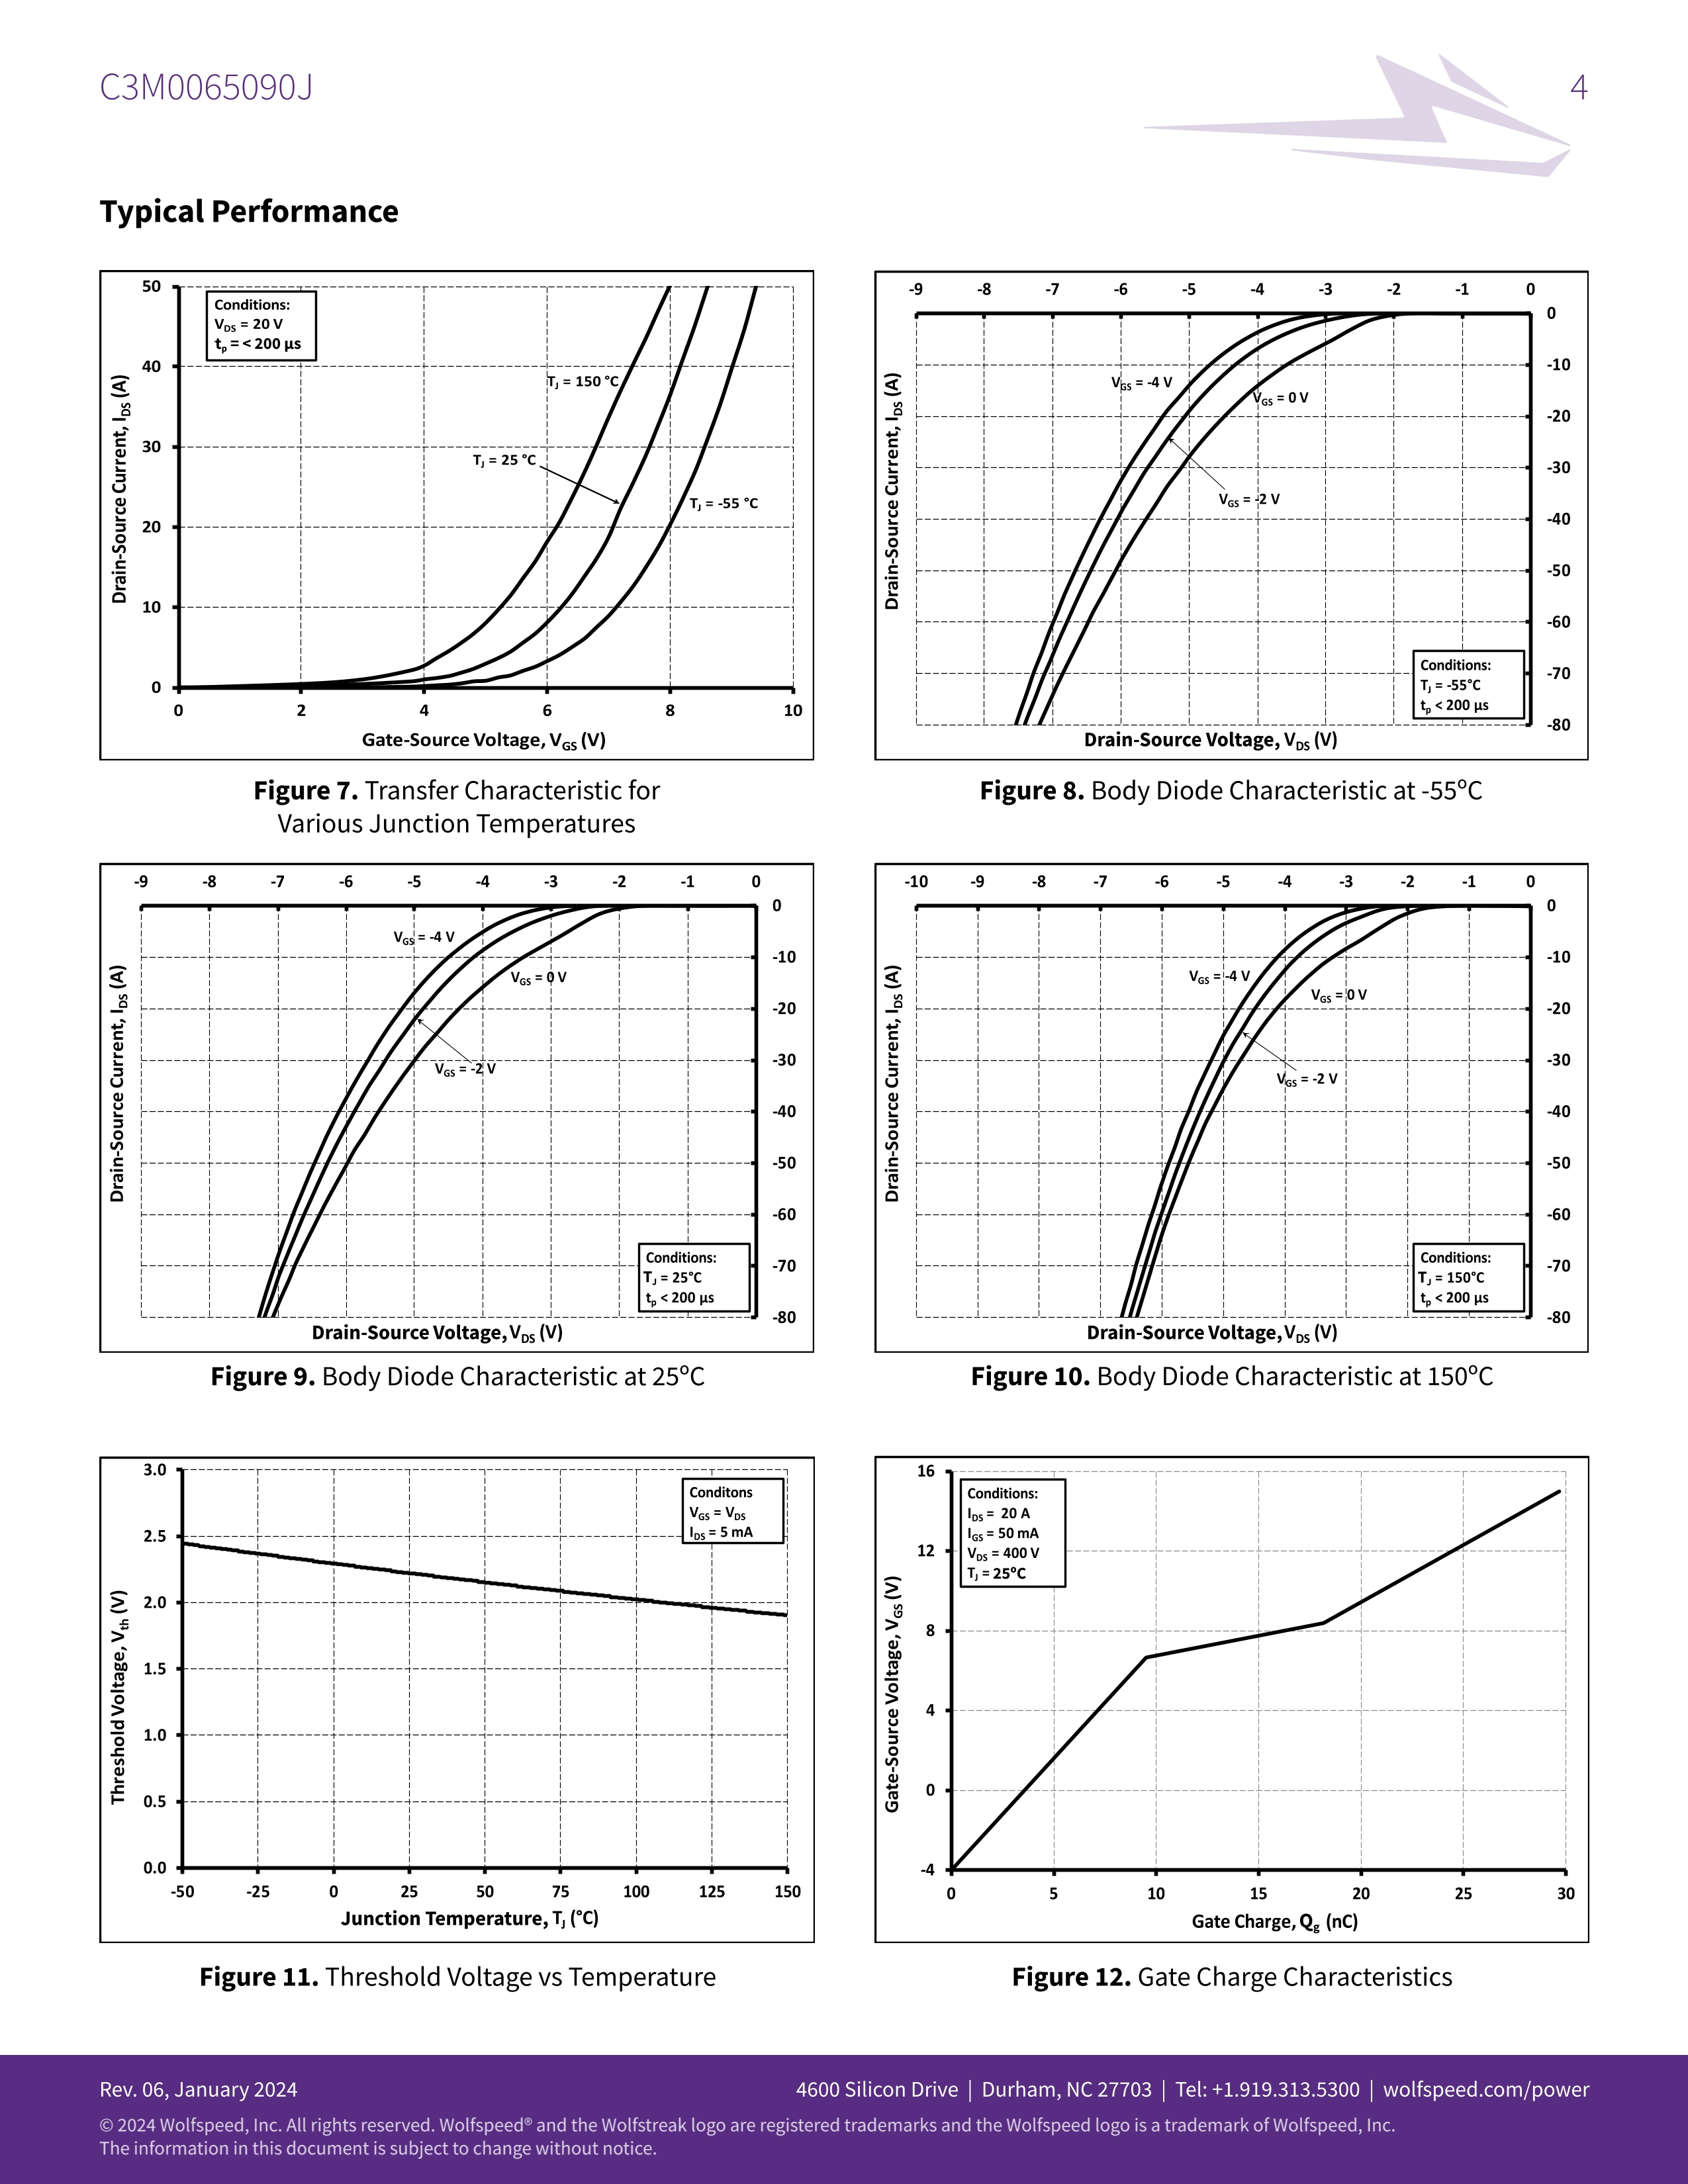diagram: (85, 1441, 837, 2025), (864, 1445, 1605, 2035), (89, 261, 827, 850), (89, 852, 834, 1423), (861, 263, 1602, 831), (863, 854, 1595, 1413)
